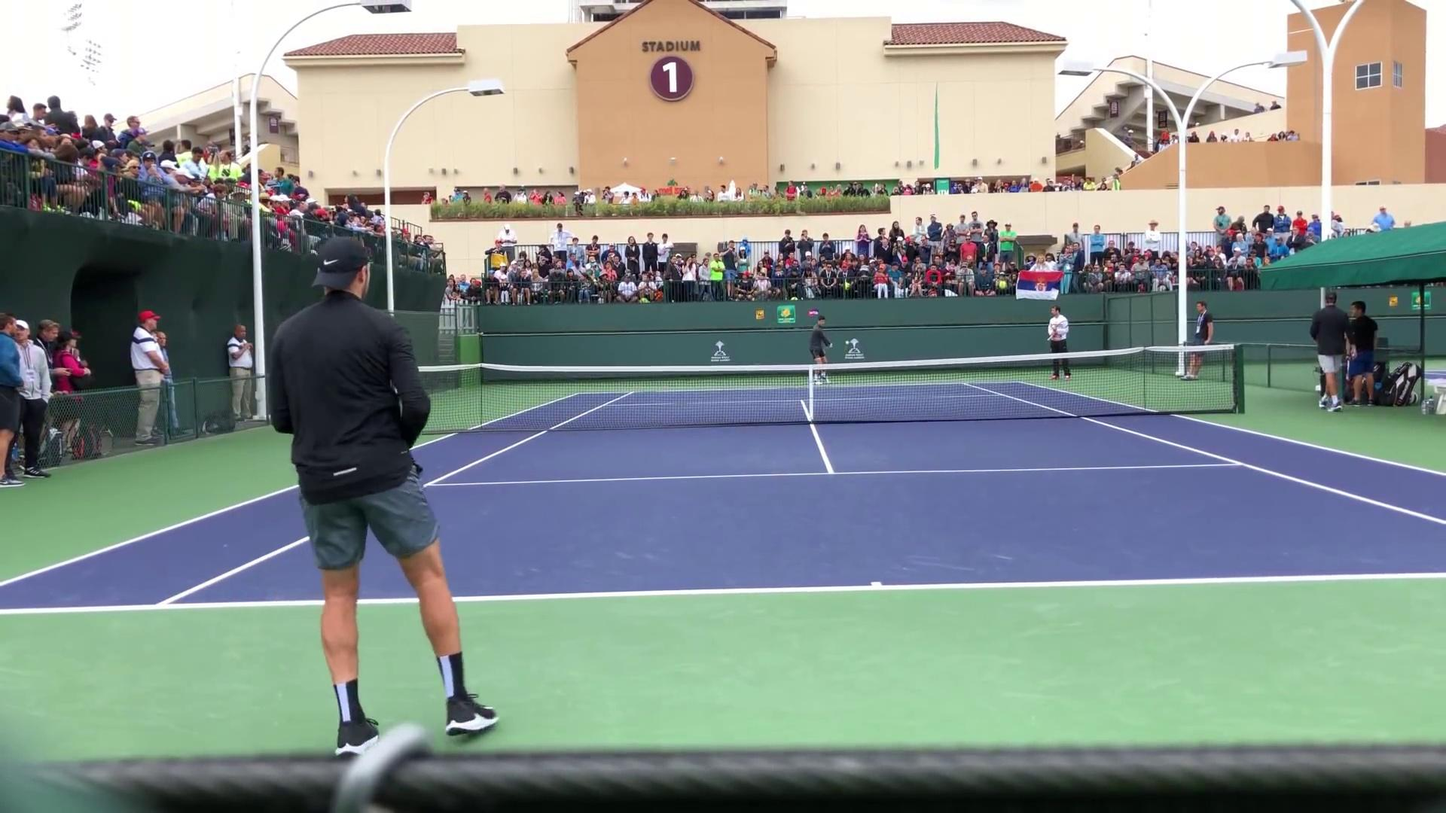ball: (844, 340, 850, 346)
